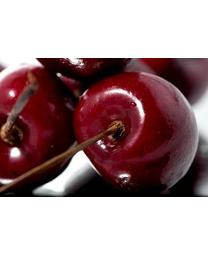cherry: (74, 70, 198, 191), (0, 64, 78, 183)
